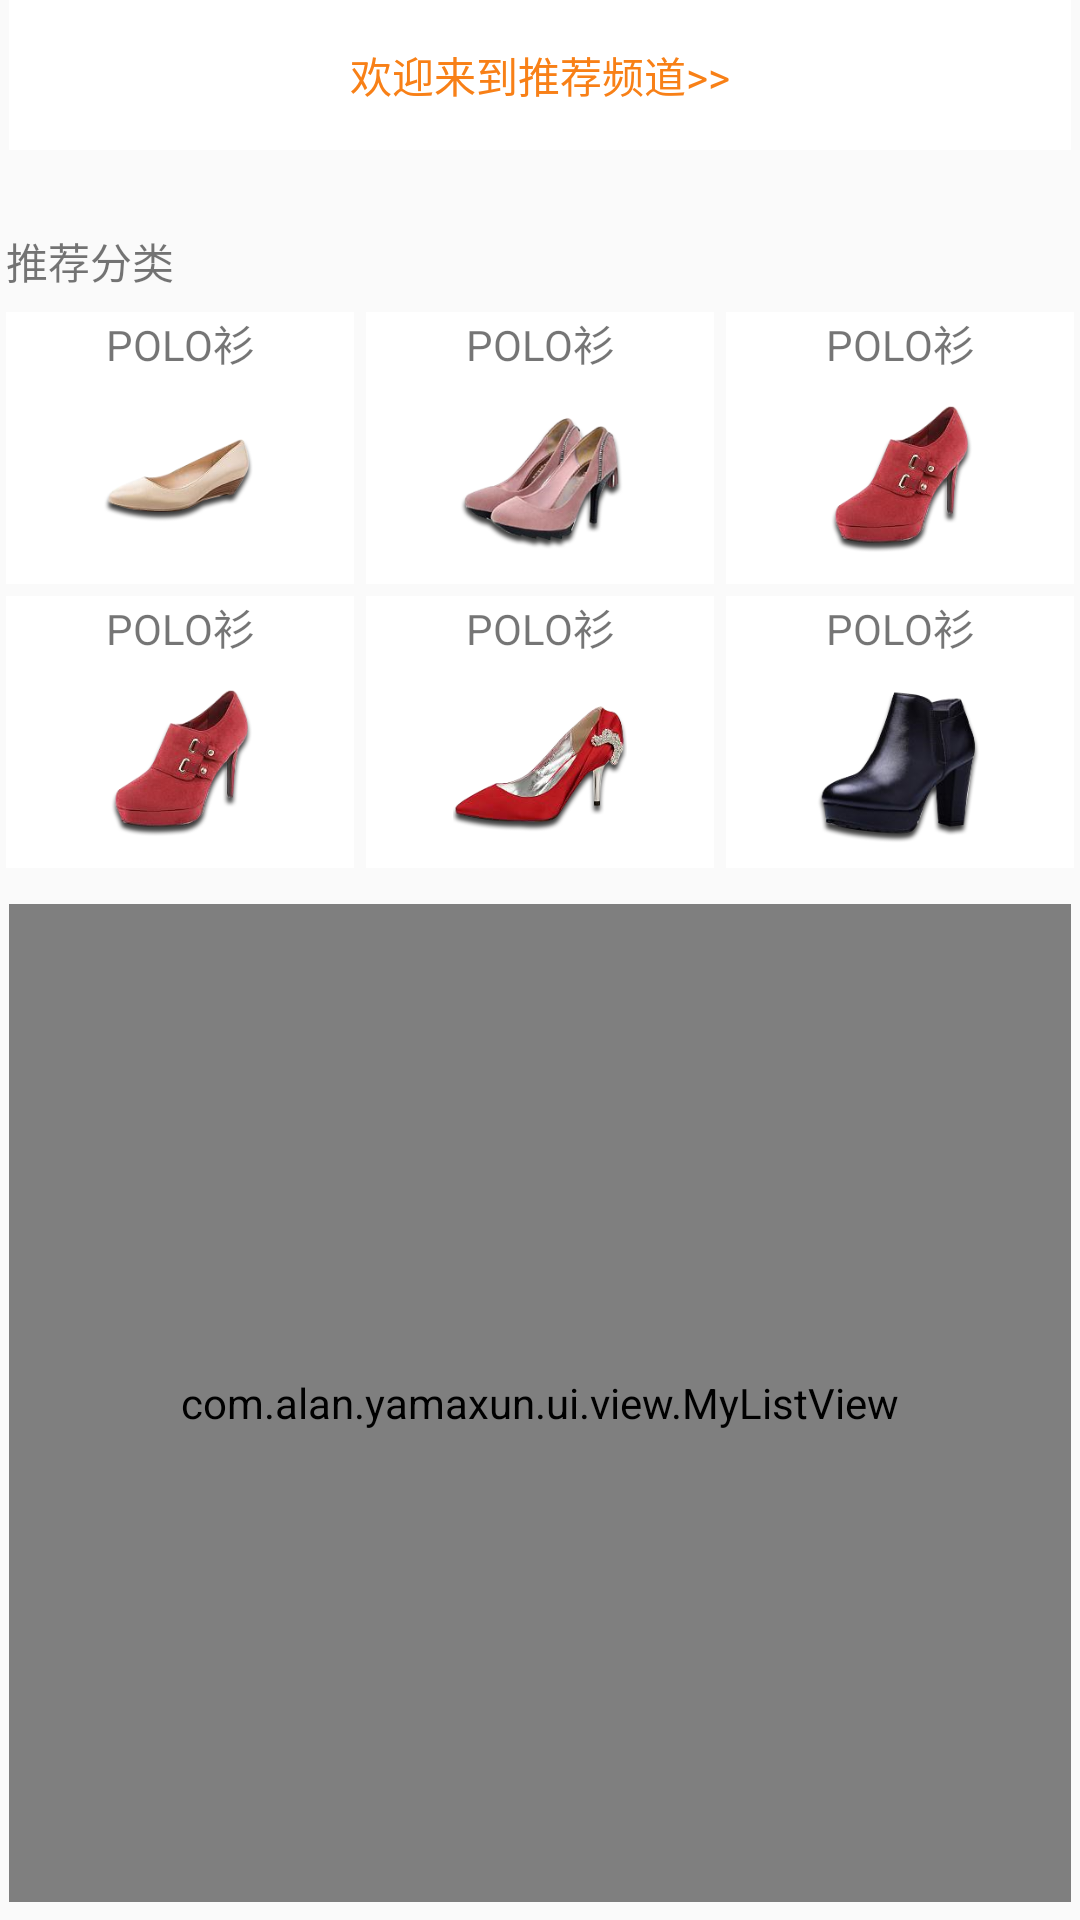

Named icons in this screenshot (1080w x 1920h) and their bounding boxes, (x1, y1, x2, y2):
xiezi: (833, 406, 970, 551), (462, 418, 621, 547), (106, 440, 251, 520), (113, 690, 250, 835), (820, 692, 977, 841), (453, 706, 626, 830)
